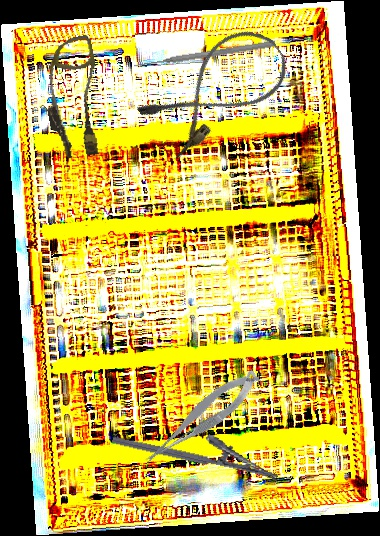Cannula: (133, 15, 299, 165), (34, 34, 113, 162)
Micro Scissor: (133, 365, 269, 469)
Needle Holder: (111, 412, 284, 483)
Pusher: (133, 38, 276, 71)
